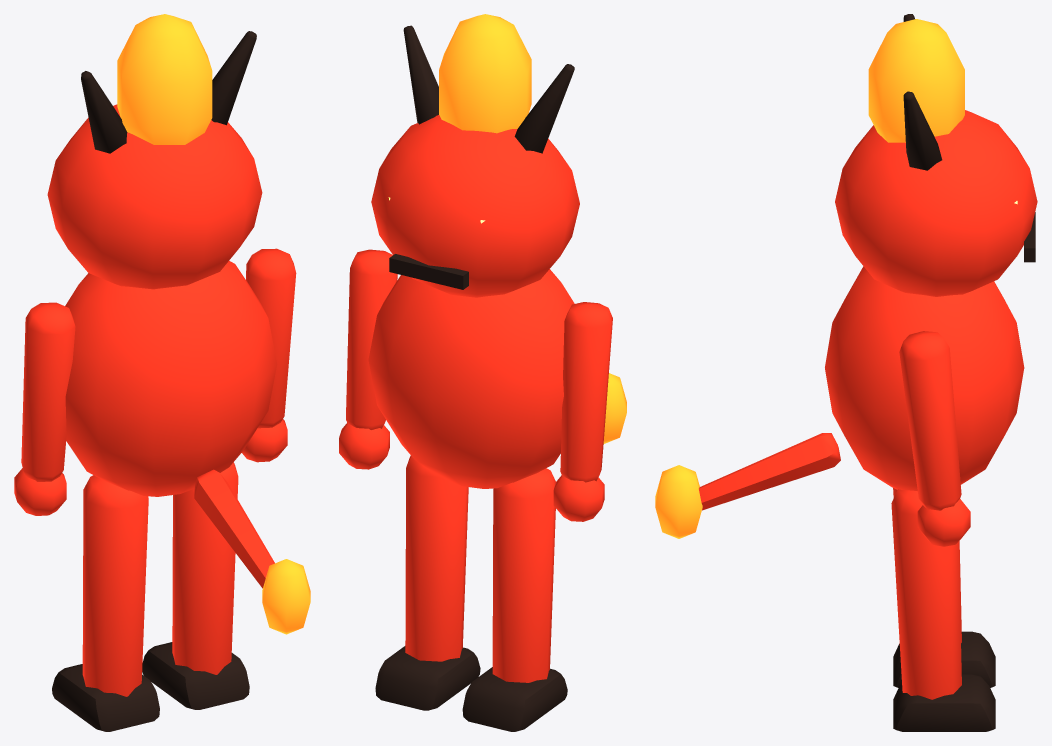
The model's file is imp.glb.
3 views of the same model, side by side, from view 1: azimuth 30°, elevation 25°; view 2: azimuth 150°, elevation 25°; view 3: azimuth 270°, elevation 25° (orthographic). The views are drawn at different scales.
Visible parts, largest first — view 1: Body, LegLMesh, LegRMesh, ArmLMesh, ArmRMesh; view 2: Body, LegLMesh, LegRMesh, ArmLMesh, ArmRMesh; view 3: Body, LegRMesh, ArmRMesh, LegLMesh.
Part boxes in pixels (x1,y1,x2,y2): Body: (47, 14, 310, 634); LegLMesh: (52, 475, 159, 731); LegRMesh: (142, 462, 249, 709); ArmLMesh: (14, 302, 75, 515); ArmRMesh: (242, 248, 296, 462); Body: (368, 14, 626, 488); LegLMesh: (462, 468, 567, 731); LegRMesh: (375, 455, 480, 710); ArmLMesh: (553, 302, 612, 521); ArmRMesh: (339, 249, 397, 469); Body: (655, 14, 1037, 538); LegRMesh: (891, 489, 995, 731); ArmRMesh: (899, 331, 970, 546); LegLMesh: (893, 488, 995, 687).
Size of the model in its own units: 0.776 by 1.93 by 0.9806.
